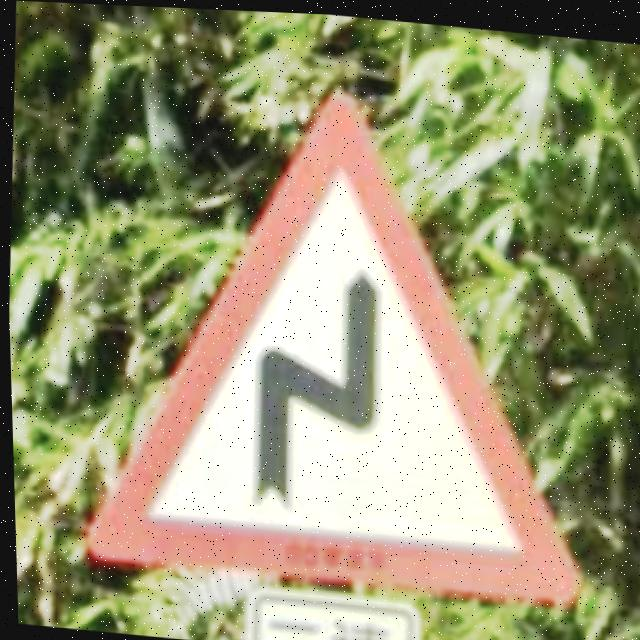doublebendright: (86, 90, 578, 603)
